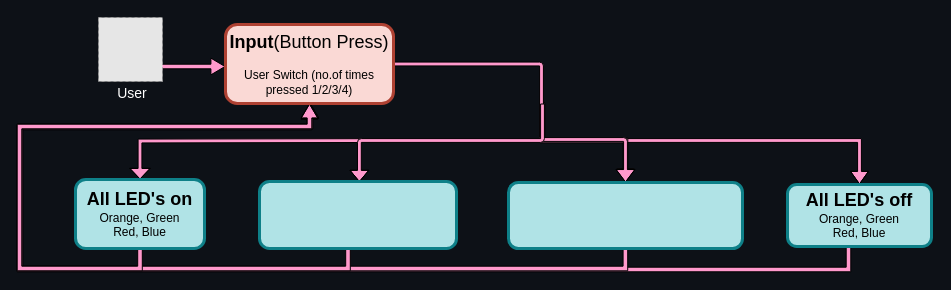
The diagram is 951 pixels wide and 290 high, and some of its shapes have lost their labels. Grey dashed boxes stand in for pictures. Each missing label, with the centre of its shape:
ON LED's Anti-Clockwise GREEN ➡ BLUE ➡ RED ➡ ORANGE ➡ GREEN: the point at 625,215
ON LED's Clockwise GREEN➡ORANGE➡RED➡BLUE➡GREEN: the point at 358,215
